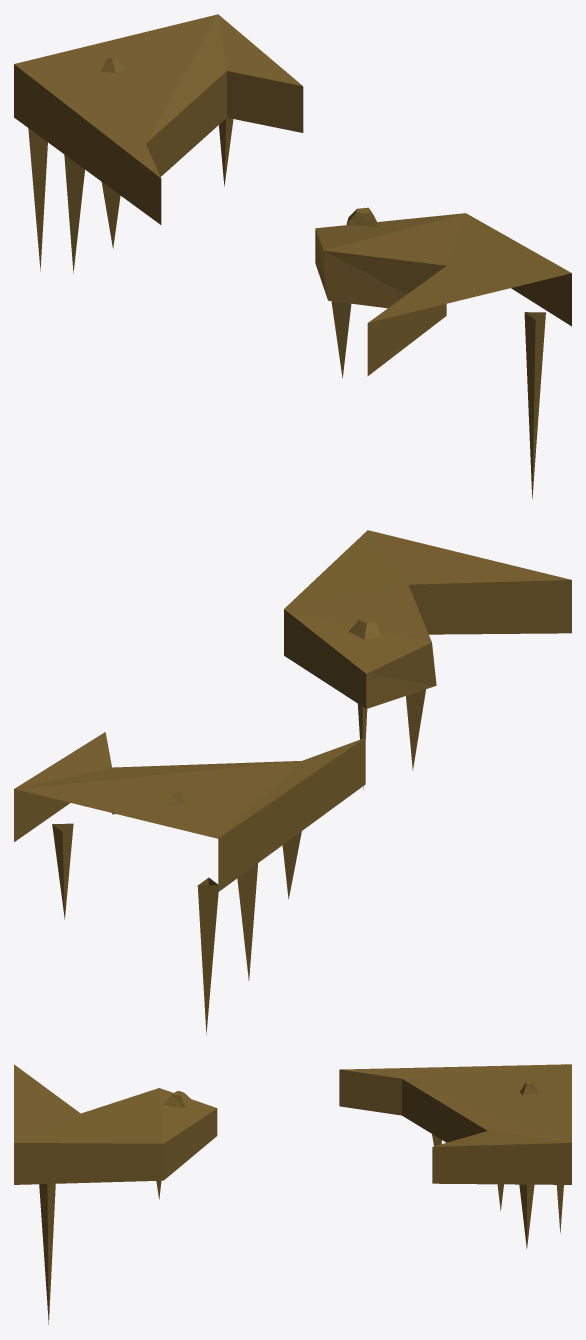
Rendered from obj_bridge_7_0.obj.
3 views of the same model, one above another, from view 1: azimuth 30°, elevation 25°; view 2: azimuth 150°, elevation 25°; view 3: azimuth 270°, elevation 25° (orthographic). The views are drawn at different scales.
Size of the model in its own units: 1 by 1.18 by 3.
